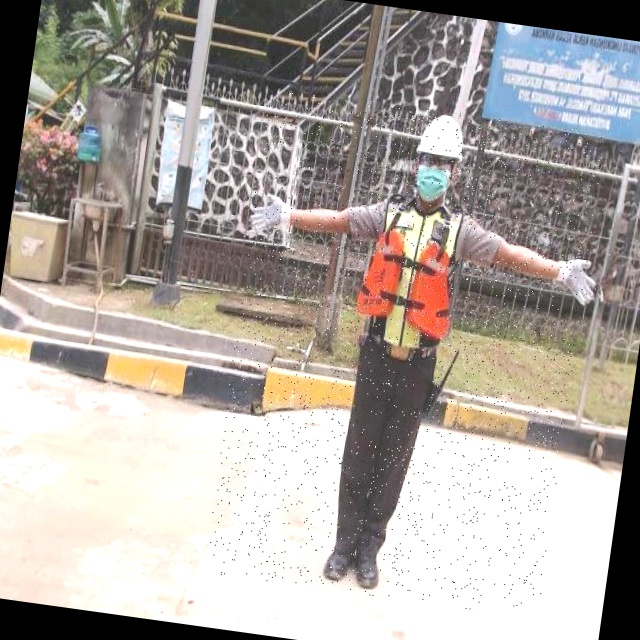boots: (257, 533, 289, 589), (225, 533, 258, 587)
gloves: (360, 182, 410, 256), (46, 210, 92, 287)
vest: (179, 181, 291, 341)
